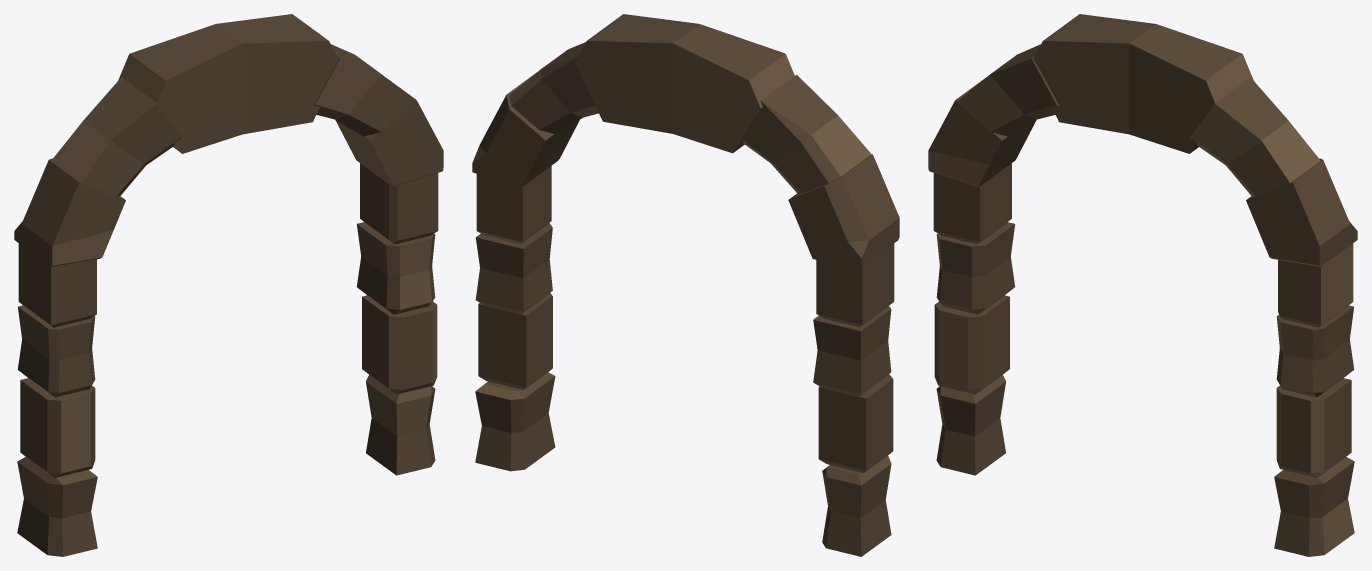
File: Archway_5_Brown.fbx
The picture shows the model from 3 angles, left to right: view 1: azimuth 30°, elevation 25°; view 2: azimuth 150°, elevation 25°; view 3: azimuth 330°, elevation 25°; orthographic projection.
Visible parts, largest first — view 1: Archway_5_Brown_Part_1, Archway_5_Brown_Part_2; view 2: Archway_5_Brown_Part_1, Archway_5_Brown_Part_2; view 3: Archway_5_Brown_Part_1, Archway_5_Brown_Part_2.
Boxes of the visible parts, bbox=[...] form: Archway_5_Brown_Part_1: bbox=[14, 14, 443, 556]; Archway_5_Brown_Part_2: bbox=[22, 54, 442, 473]; Archway_5_Brown_Part_1: bbox=[472, 14, 899, 556]; Archway_5_Brown_Part_2: bbox=[475, 43, 890, 517]; Archway_5_Brown_Part_1: bbox=[928, 14, 1357, 556]; Archway_5_Brown_Part_2: bbox=[928, 54, 1354, 554].
Bounding box in the file's own units: 613 × 696 × 106.
